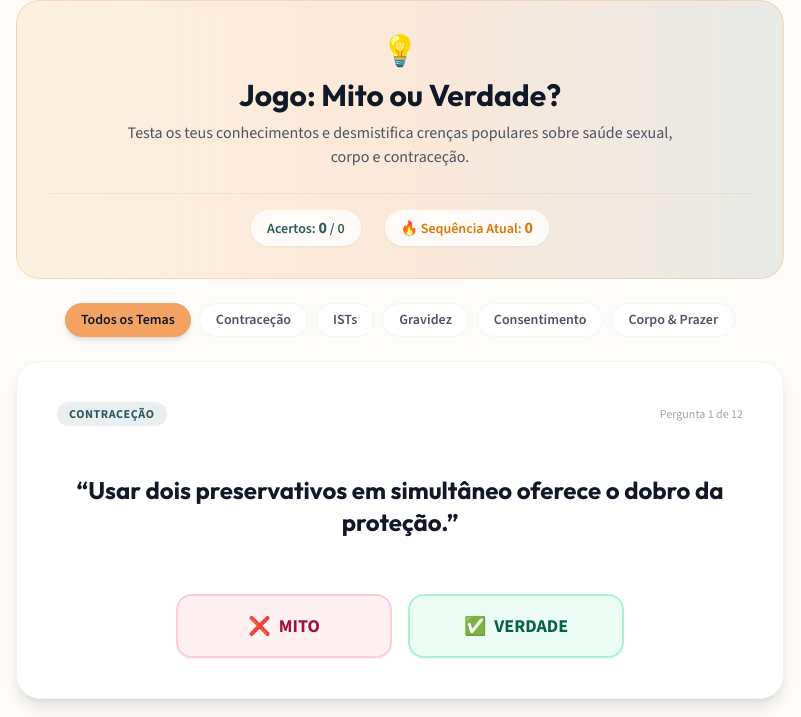
Test: MythBusterGame › shows wrong feedback when answering incorrectly
The width and height of the screenshot is (801, 717).
Click the button "✅ VERDADE" at {"x": 516, "y": 626}, box [408,594,624,658]
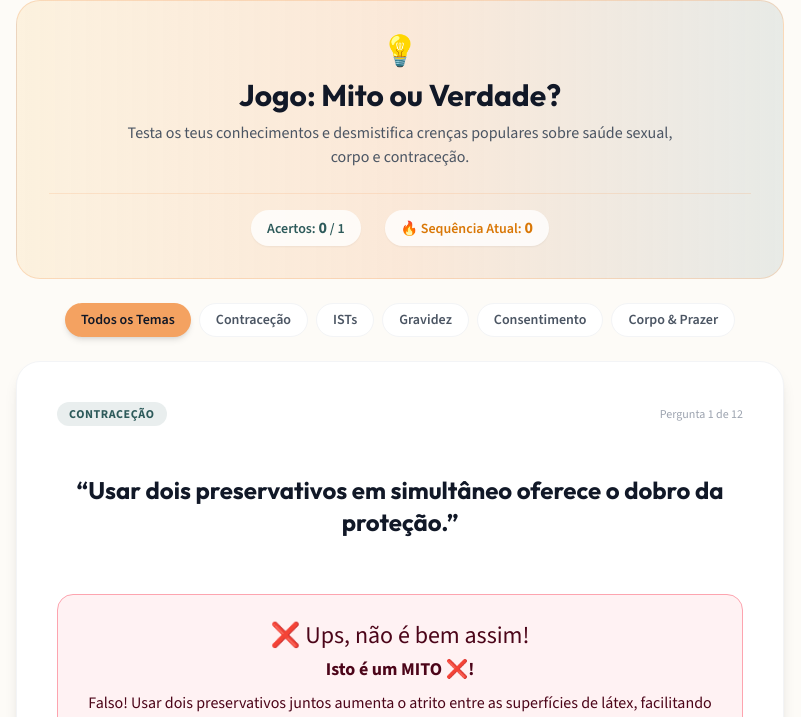
Result: the text "❌ Ups, não é bem assim!" is shown at [270,619,529,651]
